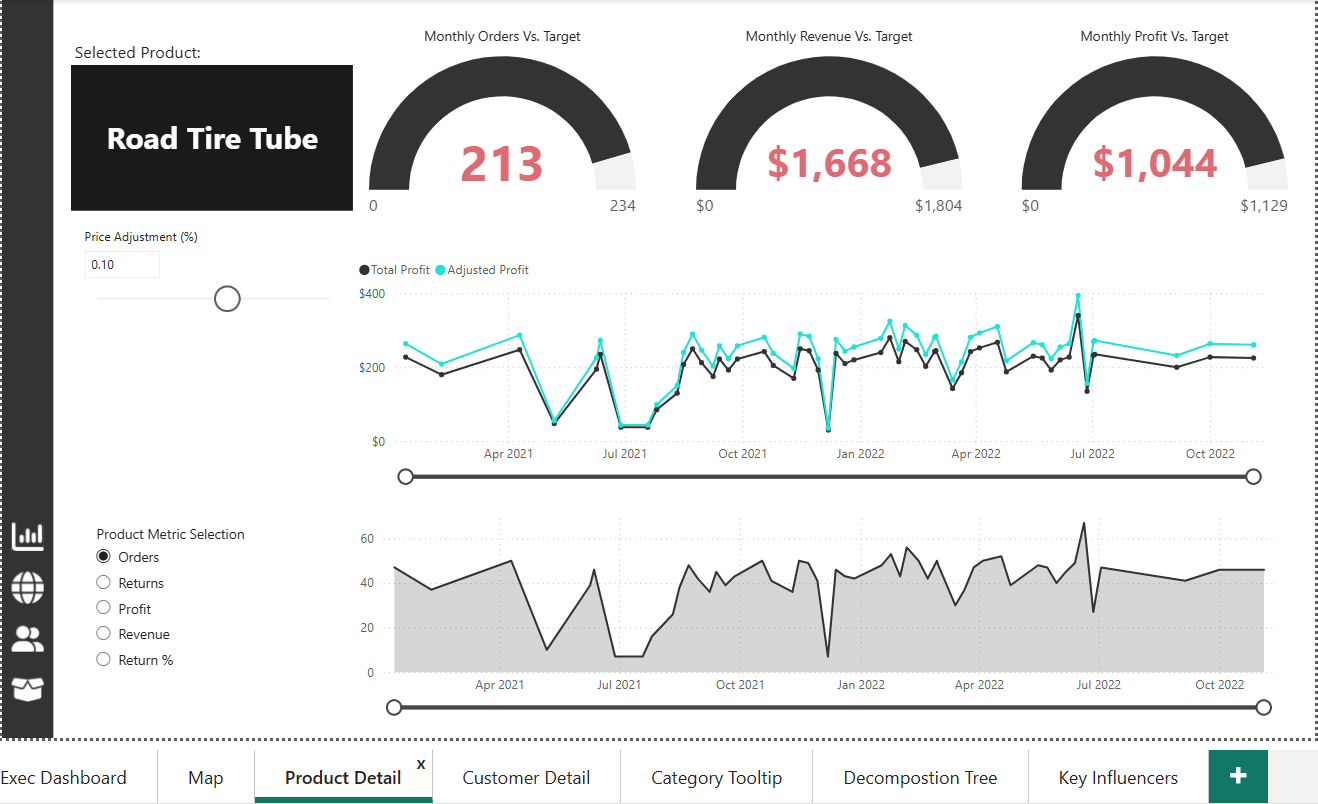

Layout of this report page (visuals, bound fields, positions):
{"tool":"powerbi","page":{"name":"Product Detail","canvas":[1280,720],"ordinal":2},"visuals":[{"type":"shape","box":[0,0,50,720.6],"z":0},{"type":"actionButton","box":[0,504.2,49.7,39.5],"z":0,"group":"g1"},{"type":"gauge","title":"Monthly Orders Vs. Target","fields":{"MaxValue":["Measure Table.Order Target"],"Y":["Measure Table.Total Orders"]},"box":[352.2,26.3,270.4,201.7],"z":1000},{"type":"actionButton","box":[0,603.6,49.7,39.5],"z":1000,"group":"g1"},{"type":"gauge","title":"Monthly Revenue Vs. Target","fields":{"MaxValue":["Measure Table.Revenue Traget"],"Y":["Measure Table.Total Revenue"]},"box":[670.3,26.3,269.9,201.6],"z":2000},{"type":"actionButton","box":[0,653.3,49.7,39.5],"z":2000,"group":"g1"},{"type":"gauge","title":"Monthly Profit Vs. Target","fields":{"MaxValue":["Measure Table.Profit Target"],"Y":["Measure Table.Total Profit"]},"box":[987.9,26.3,269.9,201.6],"z":3000},{"type":"actionButton","box":[0,553.9,49.7,39.5],"z":3000,"group":"g1"},{"type":"lineChart","title":"Profit Trending","fields":{"Category":["Calendar Lookup.Date Hierarchy.Start Of Year","Calendar Lookup.Date Hierarchy.Start of Month","Calendar Lookup.Date Hierarchy.Start of Week","Calendar Lookup.Date Hierarchy.Date"],"Y":["Measure Table.Total Profit","Measure Table.Adjusted Profit"]},"box":[342,244.1,906.1,232.4],"z":4000},{"type":"areaChart","title":"Returns Trending","fields":{"Category":["Calendar Lookup.Date Hierarchy.Start Of Year","Calendar Lookup.Date Hierarchy.Start of Month","Calendar Lookup.Date Hierarchy.Start of Week","Calendar Lookup.Date Hierarchy.Date"],"Y":["Measure Table.Total Orders"]},"box":[342,489.6,916.3,211.9],"z":5000},{"type":"card","fields":{"Values":["Min(Product Lookup.ProductName)"]},"box":[67.2,64.3,274.8,141.8],"z":6000},{"type":"textbox","box":[65.8,35.1,143.2,38],"z":7000},{"type":"group","id":"g1","title":"Nav Button","box":[0,504.2,49.7,188.5],"z":8000},{"type":"slicer","fields":{"Values":["Price Adjustment (%).Price Adjustment (%)"]},"box":[67.2,217.8,274.8,93.5],"z":9000},{"type":"slicer","fields":{"Values":["Product Metric Selection.Product Metric Selection"]},"box":[78.9,505.7,251.4,175.4],"z":9001}]}

Visuals, with their boxes on the page's 1280x720 design canvas (x1, y1, x2, y2). These are canvas units, not pixel positions in the 1318x804 screenshot, which may show the page scaled, cropped or inside an application window:
shape: <bbox>0, 0, 50, 721</bbox>
actionButton: <bbox>0, 504, 50, 544</bbox>
"Monthly Orders Vs. Target" gauge: <bbox>352, 26, 623, 228</bbox>
actionButton: <bbox>0, 604, 50, 643</bbox>
"Monthly Revenue Vs. Target" gauge: <bbox>670, 26, 940, 228</bbox>
actionButton: <bbox>0, 653, 50, 693</bbox>
"Monthly Profit Vs. Target" gauge: <bbox>988, 26, 1258, 228</bbox>
actionButton: <bbox>0, 554, 50, 593</bbox>
"Profit Trending" lineChart: <bbox>342, 244, 1248, 476</bbox>
"Returns Trending" areaChart: <bbox>342, 490, 1258, 702</bbox>
card - Min(Product Lookup.ProductName): <bbox>67, 64, 342, 206</bbox>
textbox: <bbox>66, 35, 209, 73</bbox>
"Nav Button" group: <bbox>0, 504, 50, 693</bbox>
slicer - Price Adjustment (%).Price Adjustment (%): <bbox>67, 218, 342, 311</bbox>
slicer - Product Metric Selection.Product Metric Selection: <bbox>79, 506, 330, 681</bbox>
